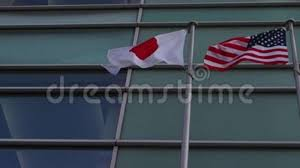Japanese Flag: (96, 23, 192, 75)
